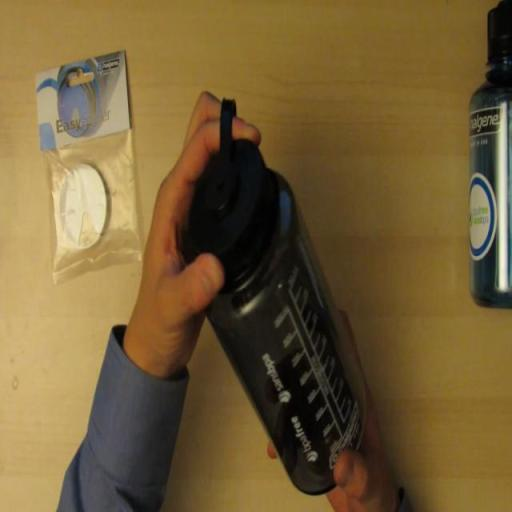bottle: (188, 101, 366, 494)
